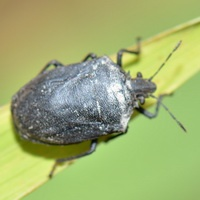insect: (22, 73, 199, 199), (11, 38, 180, 153), (12, 1, 199, 91)
